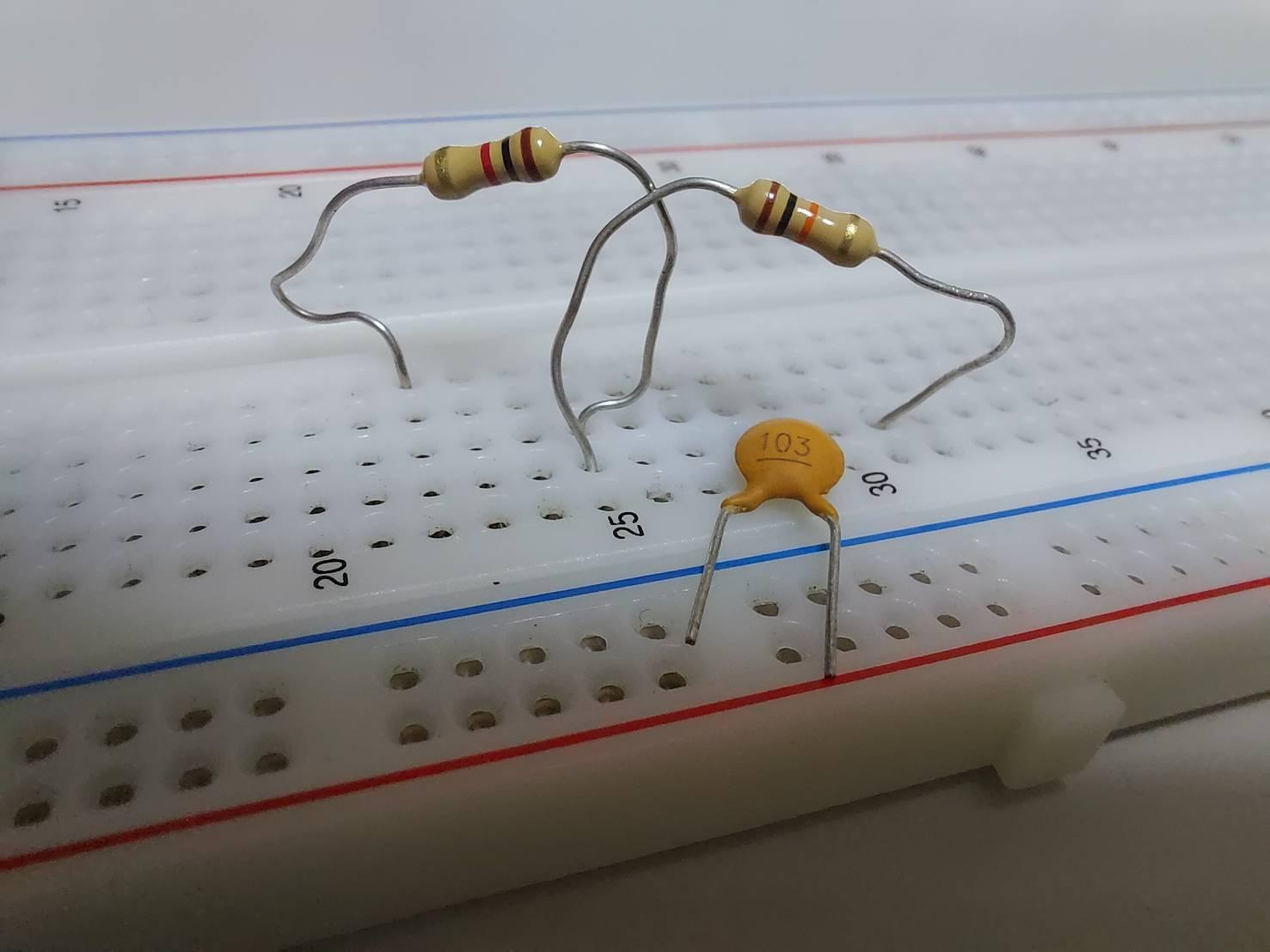resistor: (739, 169, 880, 269), (416, 125, 567, 200)
